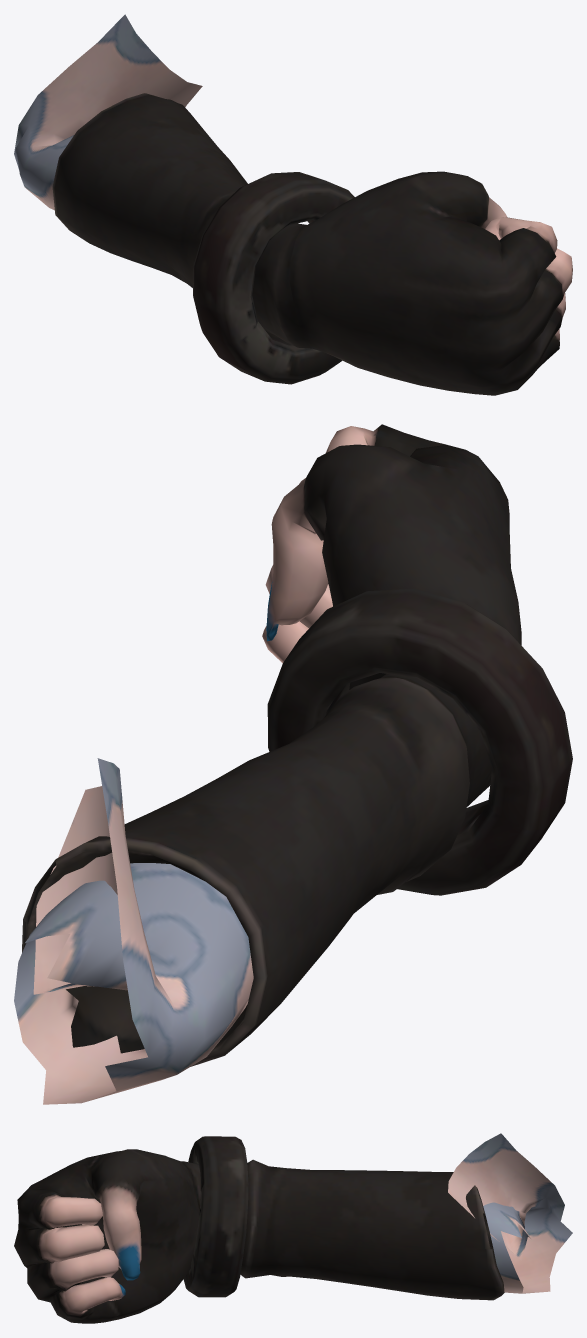
The model's file is HandR.fbx.
3 renders of one model, top to bottom at view 1: azimuth 30°, elevation 25°; view 2: azimuth 150°, elevation 25°; view 3: azimuth 270°, elevation 25°, orthographic. The views are drawn at different scales.
Parts seen in each view (by area): view 1: Hand.R; view 2: Hand.R; view 3: Hand.R.
Boxes of the visible parts, box(x1,y1,x2,y2) form: Hand.R: box(14, 14, 572, 395); Hand.R: box(14, 424, 572, 1104); Hand.R: box(14, 1133, 572, 1323).
Bounding box in the file's own units: 14.51 × 11.17 × 33.55.
1 material, 1 textured.
